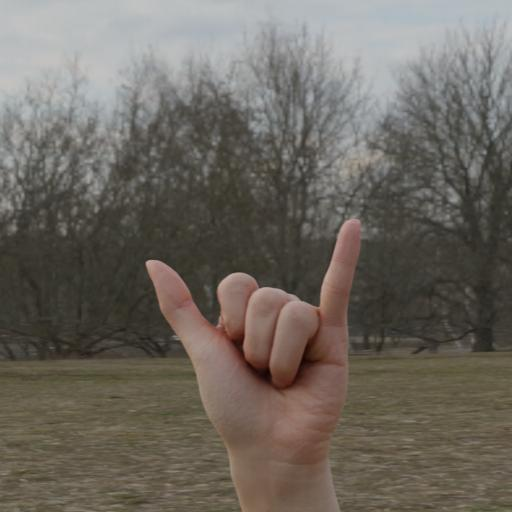Y: (142, 216, 366, 464)
